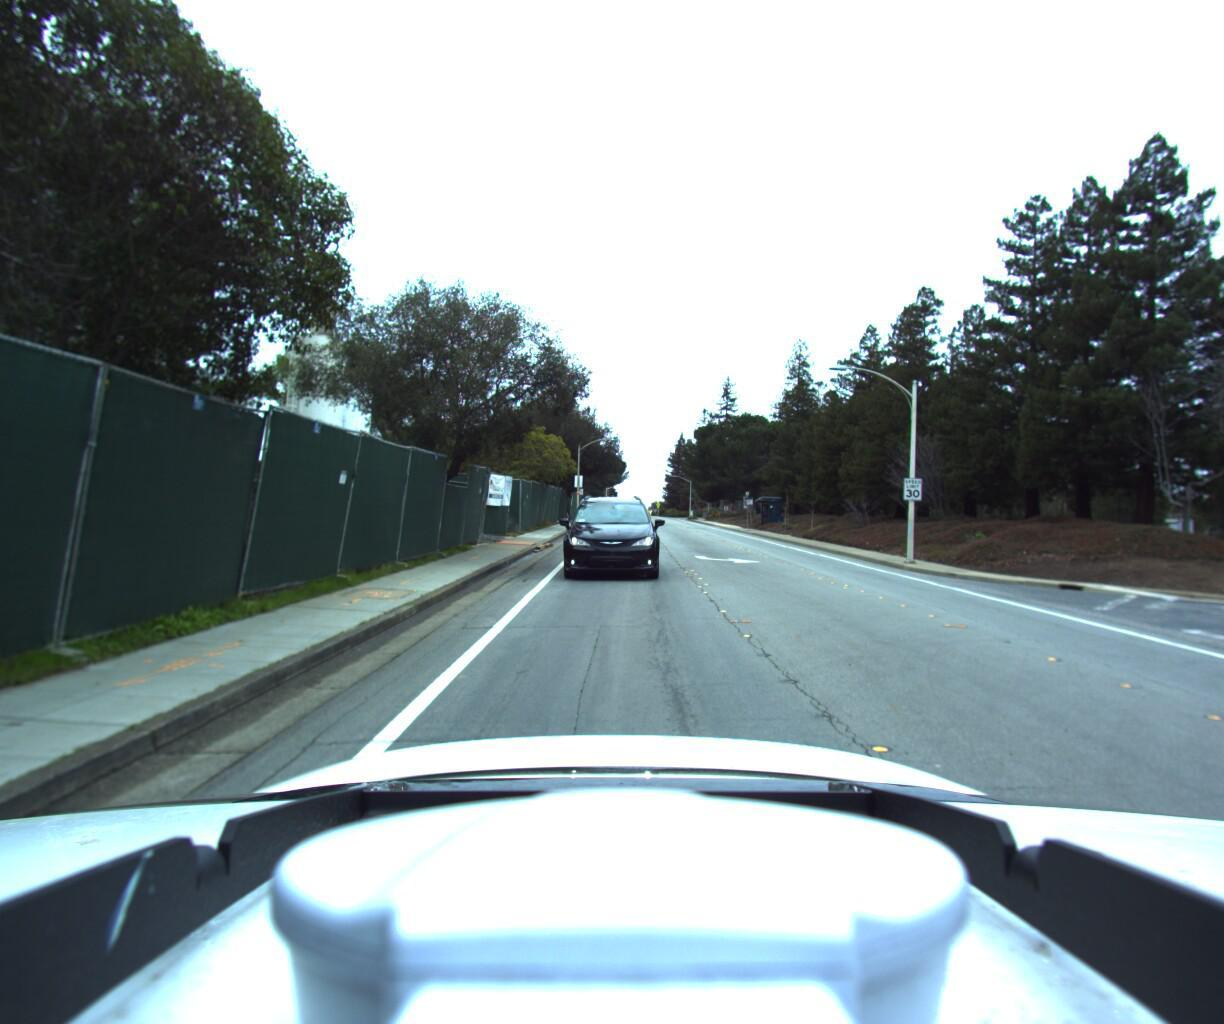car: (556, 485, 662, 588)
